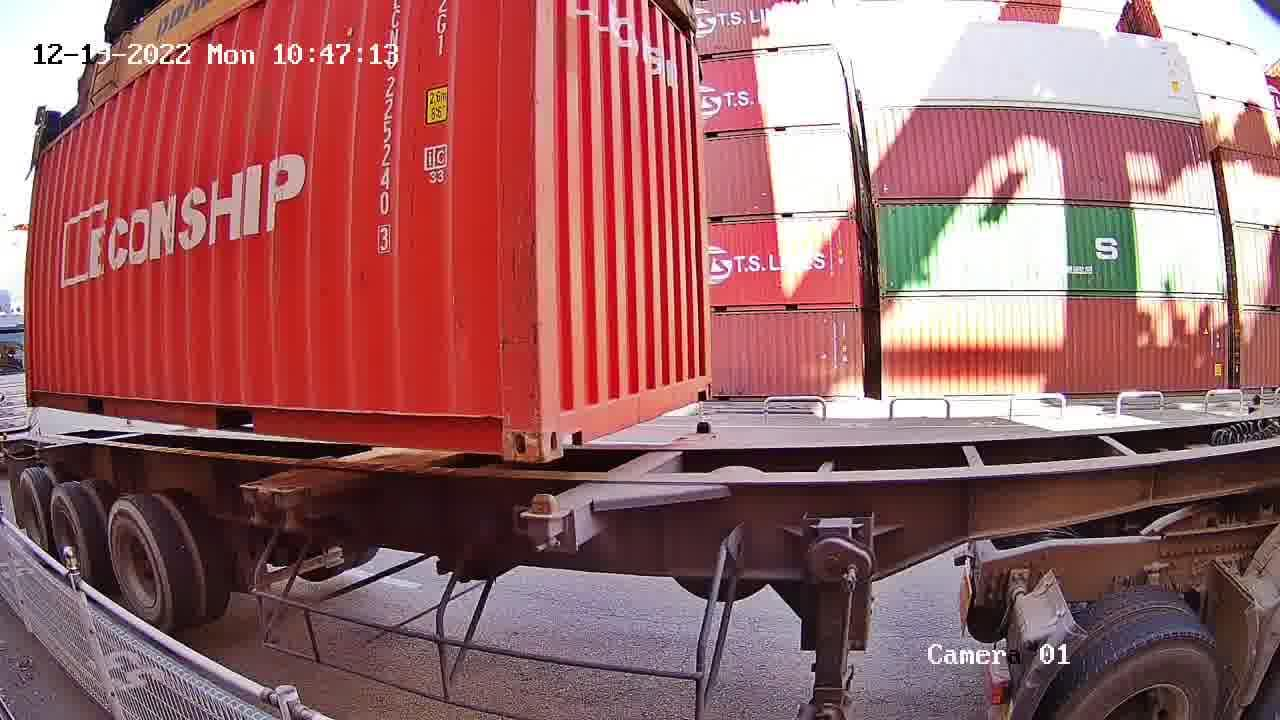Chassis: (528, 432, 718, 549)
Cone: (528, 492, 567, 551), (694, 419, 711, 438)
Hole_L: (540, 392, 585, 464)
Hole_R: (472, 398, 542, 464), (690, 366, 714, 403)
Tire: (111, 511, 165, 621), (51, 495, 84, 574), (18, 477, 44, 539)
